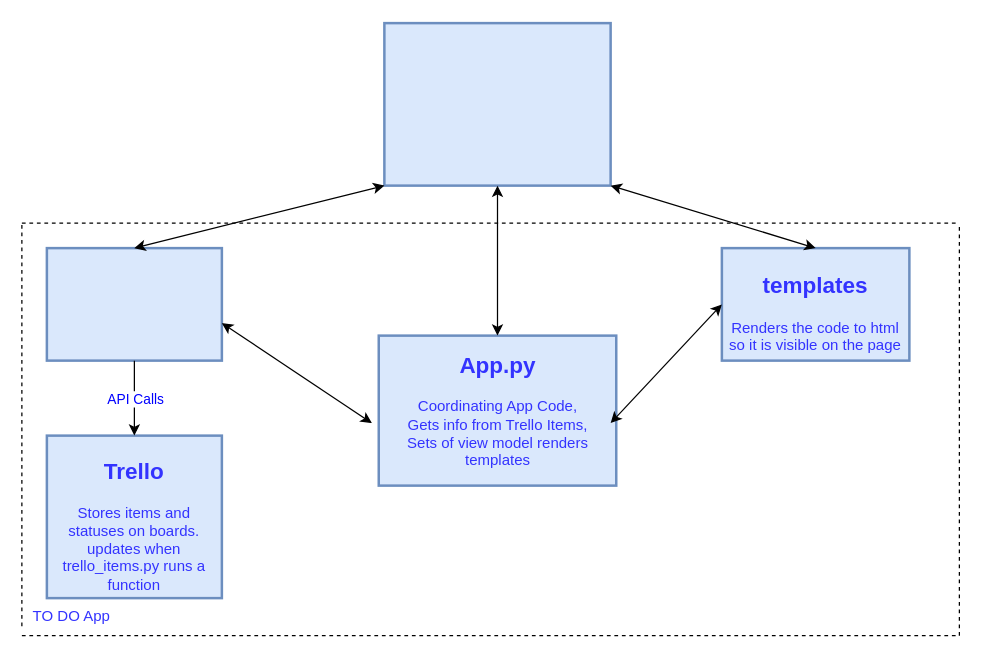
Image size: 983x659. Some labels were removed from this diagram. The box of each missing label's shape, as (x1, y1, x2, y2) in pixels:
FLASK: (382, 21, 611, 186)
trello_items.py runs functions like add item,get items, and move to done: (45, 246, 222, 361)
